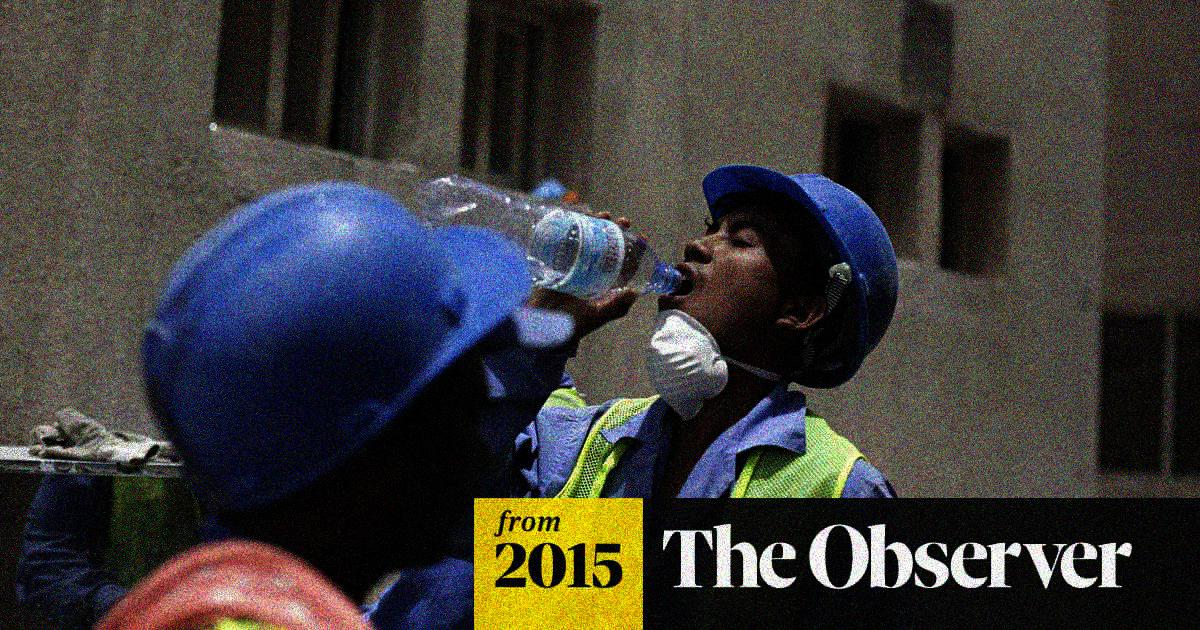helmet: (129, 178, 532, 556), (656, 154, 901, 404)
